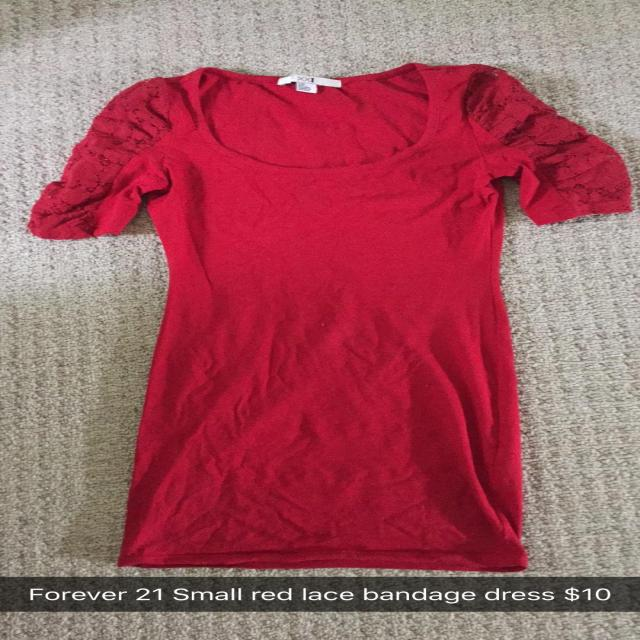Dress: (33, 59, 640, 575)
